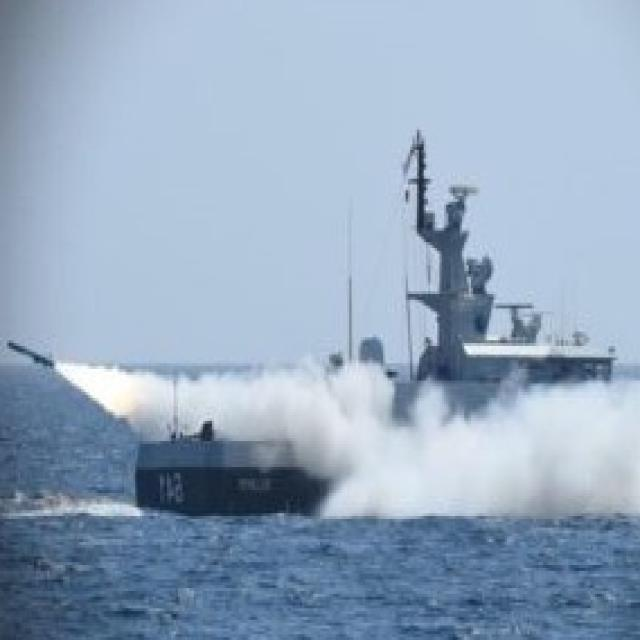navalvessels: (113, 131, 624, 526)
